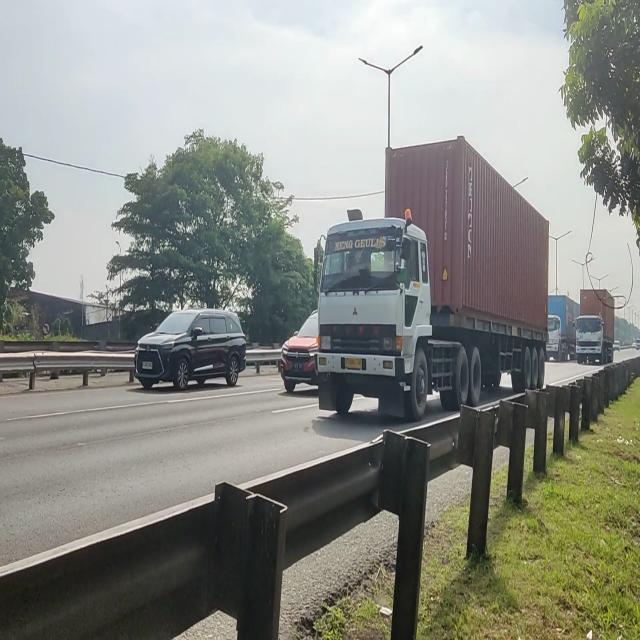Golongan I: (136, 299, 249, 396)
Golongan V: (316, 213, 549, 428)
